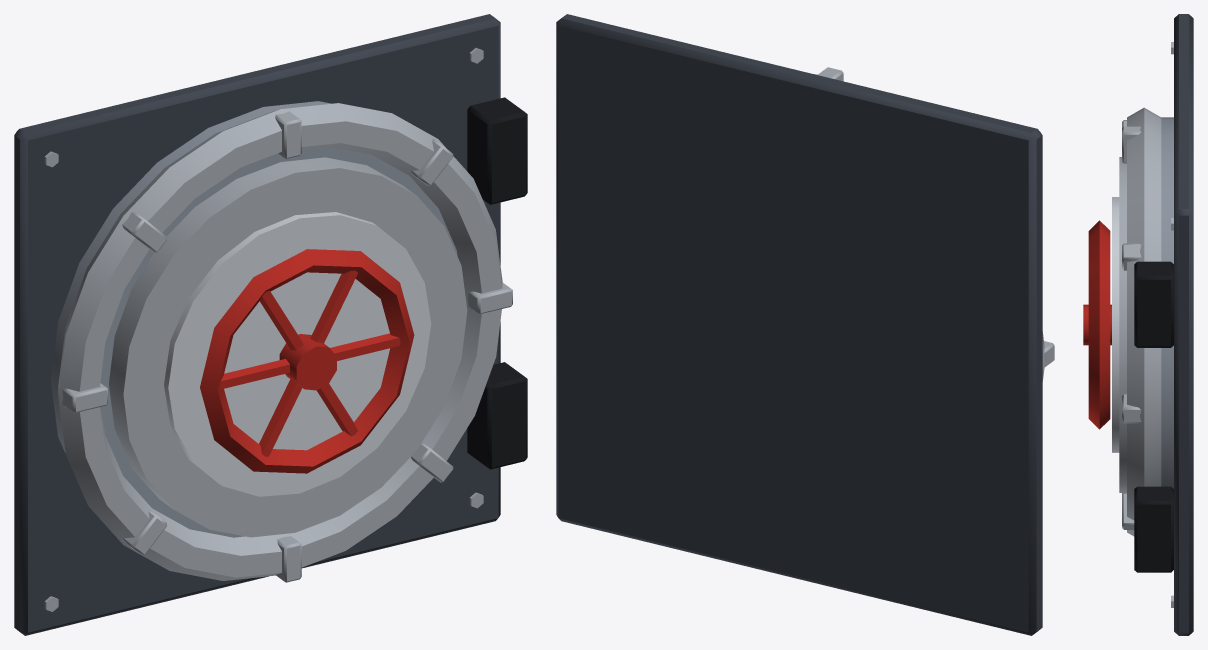
Rendered from hatch_round_wheel.glb.
3 views of the same model, side by side, from view 1: azimuth 30°, elevation 25°; view 2: azimuth 150°, elevation 25°; view 3: azimuth 270°, elevation 25° (orthographic). The views are drawn at different scales.
Visible parts, largest first — view 1: hatch_round_wheel; view 2: hatch_round_wheel; view 3: hatch_round_wheel.
Part boxes in pixels (box(x1,y1,x2,y2)): hatch_round_wheel: box(14, 14, 527, 635); hatch_round_wheel: box(556, 14, 1054, 635); hatch_round_wheel: box(1083, 14, 1193, 635).
Bounding box in the file's own units: 0.955 × 0.95 × 0.223.
